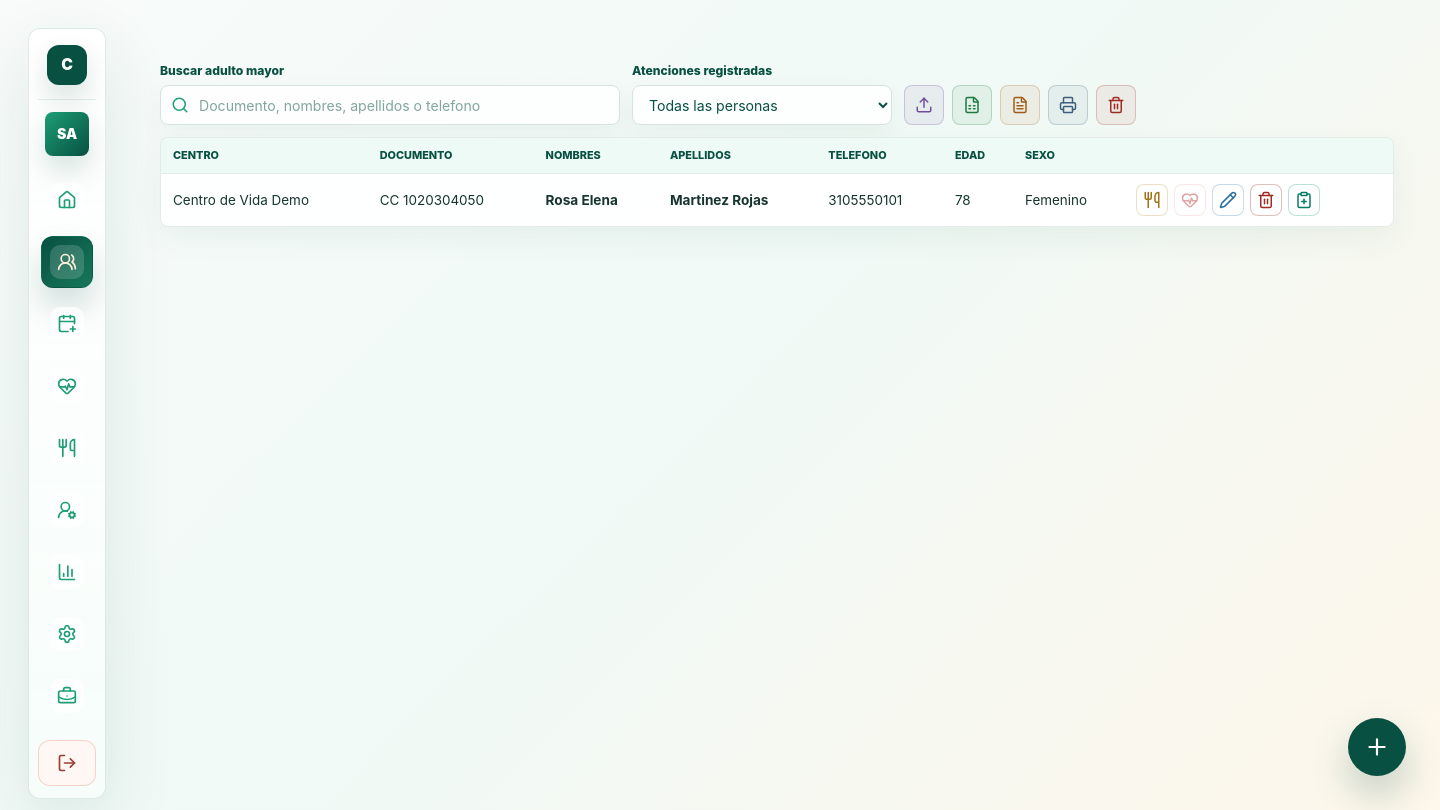
Scenario: App adultos mayores flow › allows SuperAdmin users to send an adulto mayor to trash and access the trash
Click the button named "Enviar a papelera Rosa Elena Martinez Rojas" at (1266, 200), box [1250, 184, 1282, 216]
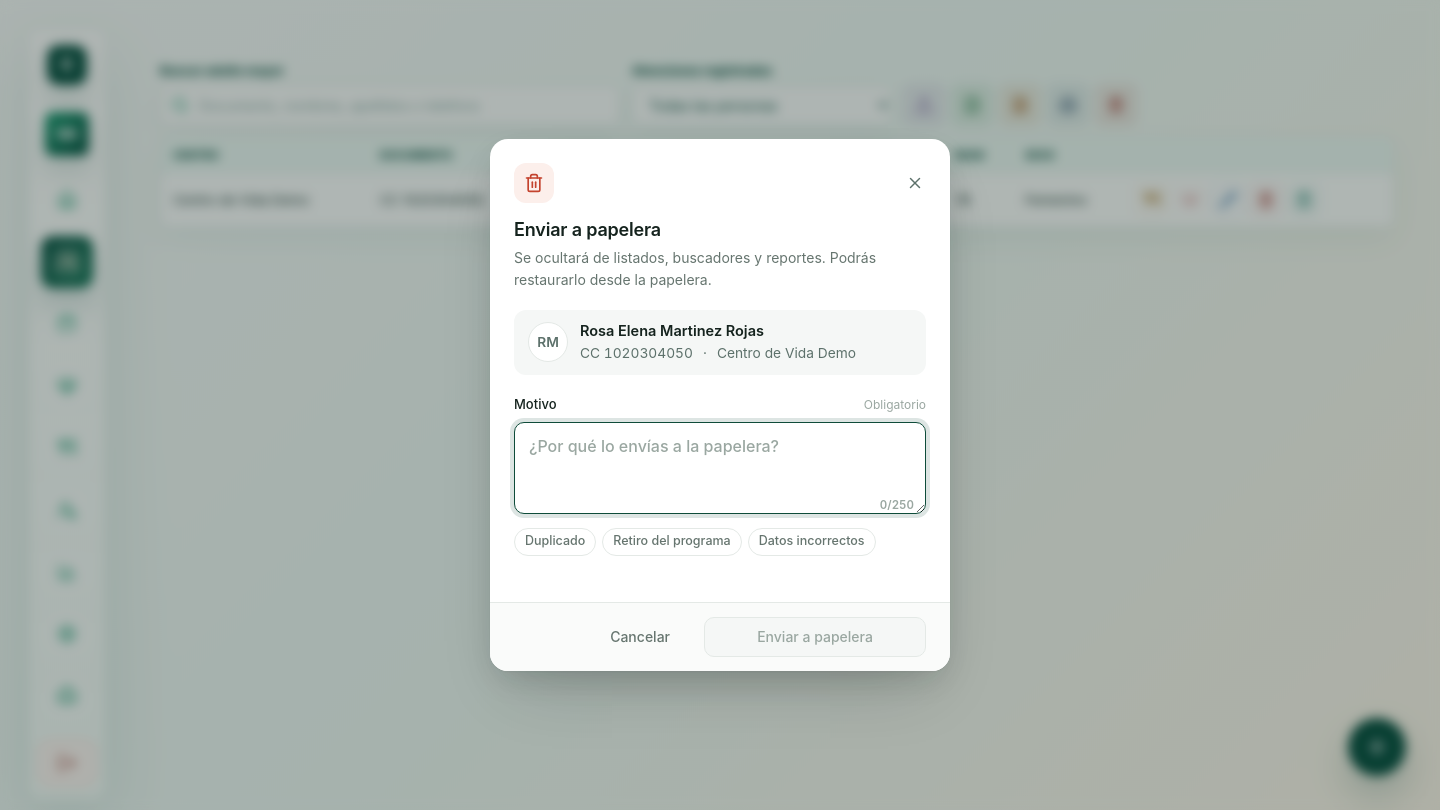
Type "Registro duplicado" into the text box labelled "Motivo" at (720, 468), box [514, 422, 926, 514]
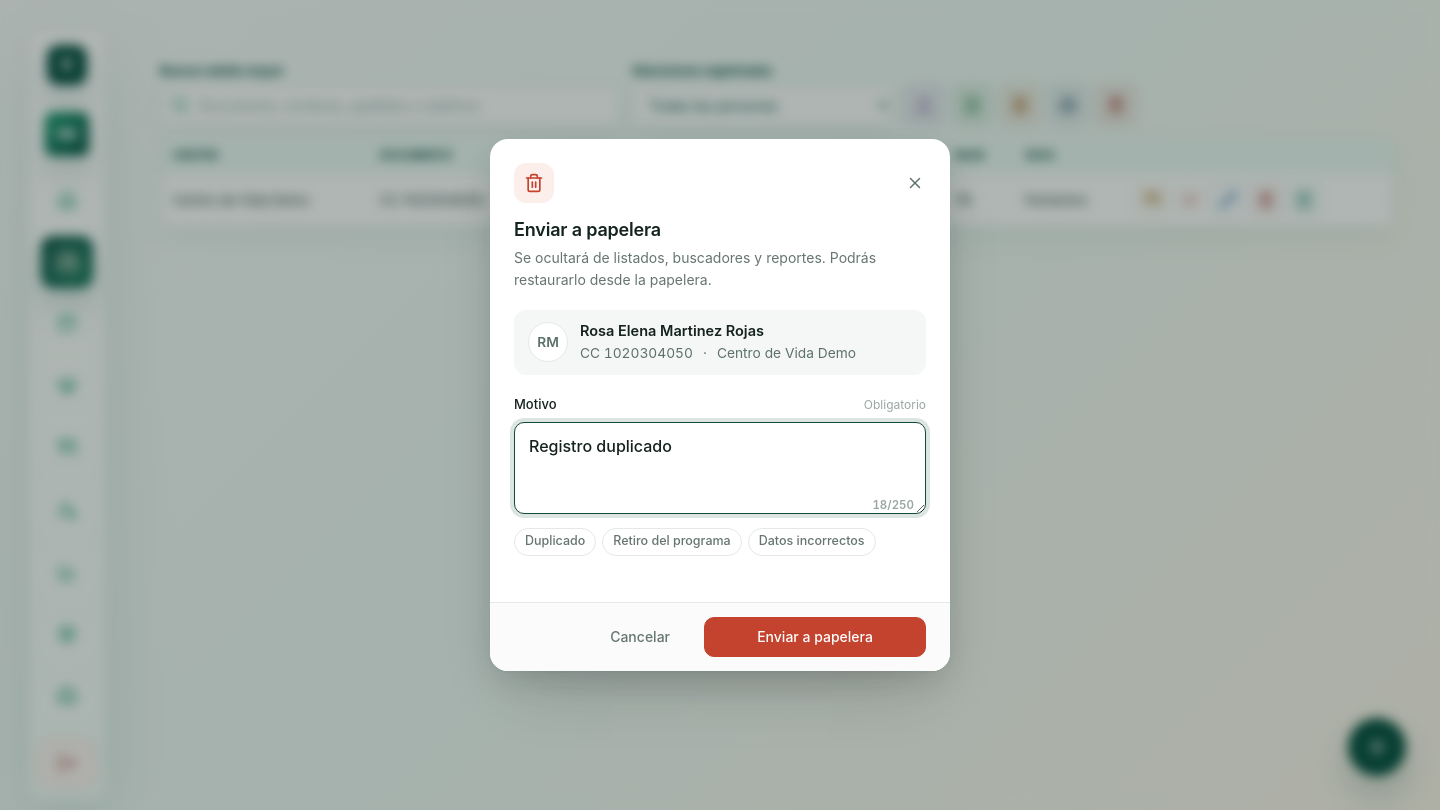
Click the button "Enviar a papelera" at (815, 637), box [704, 617, 926, 657]
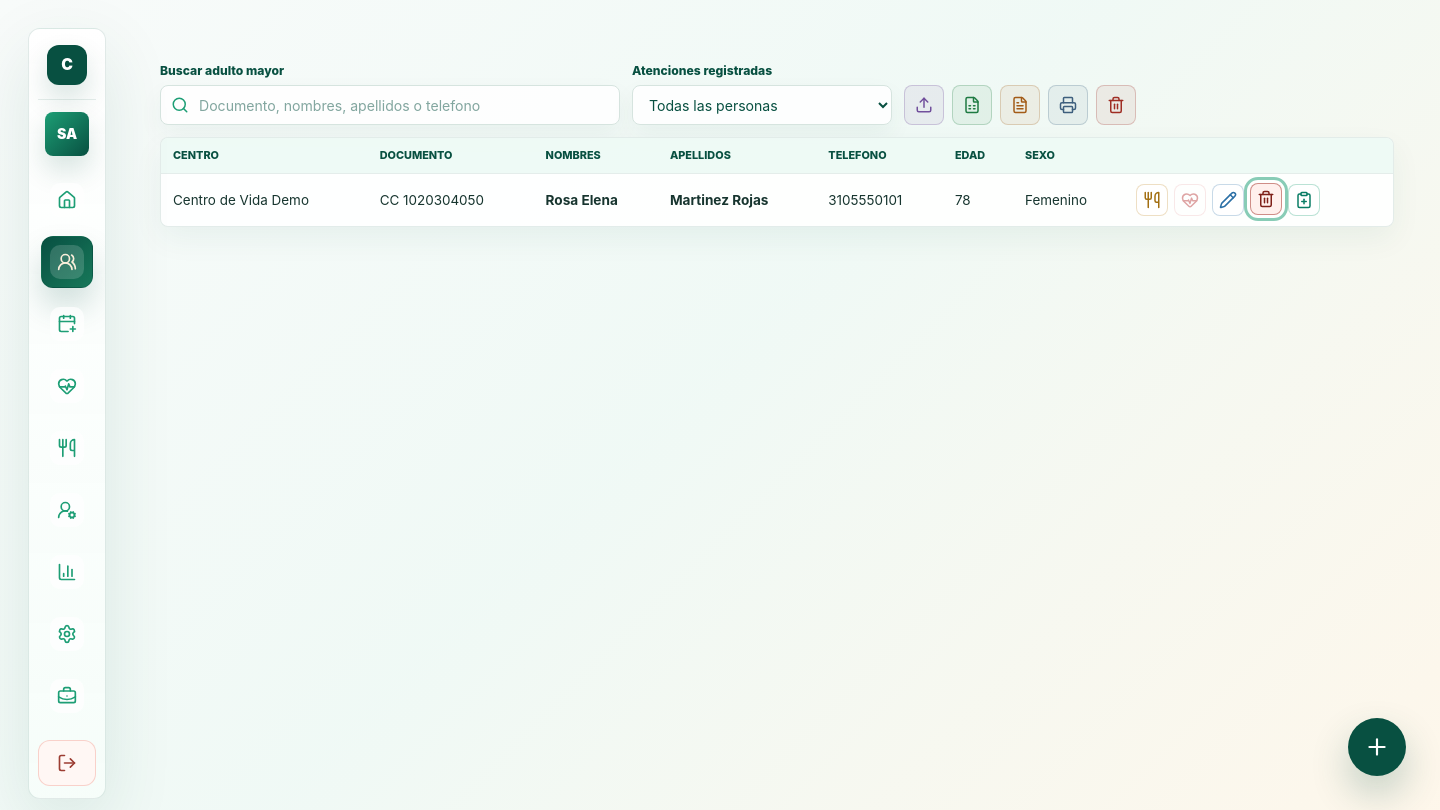
Click the button named "Papelera" at (1116, 105), box [1096, 85, 1136, 125]
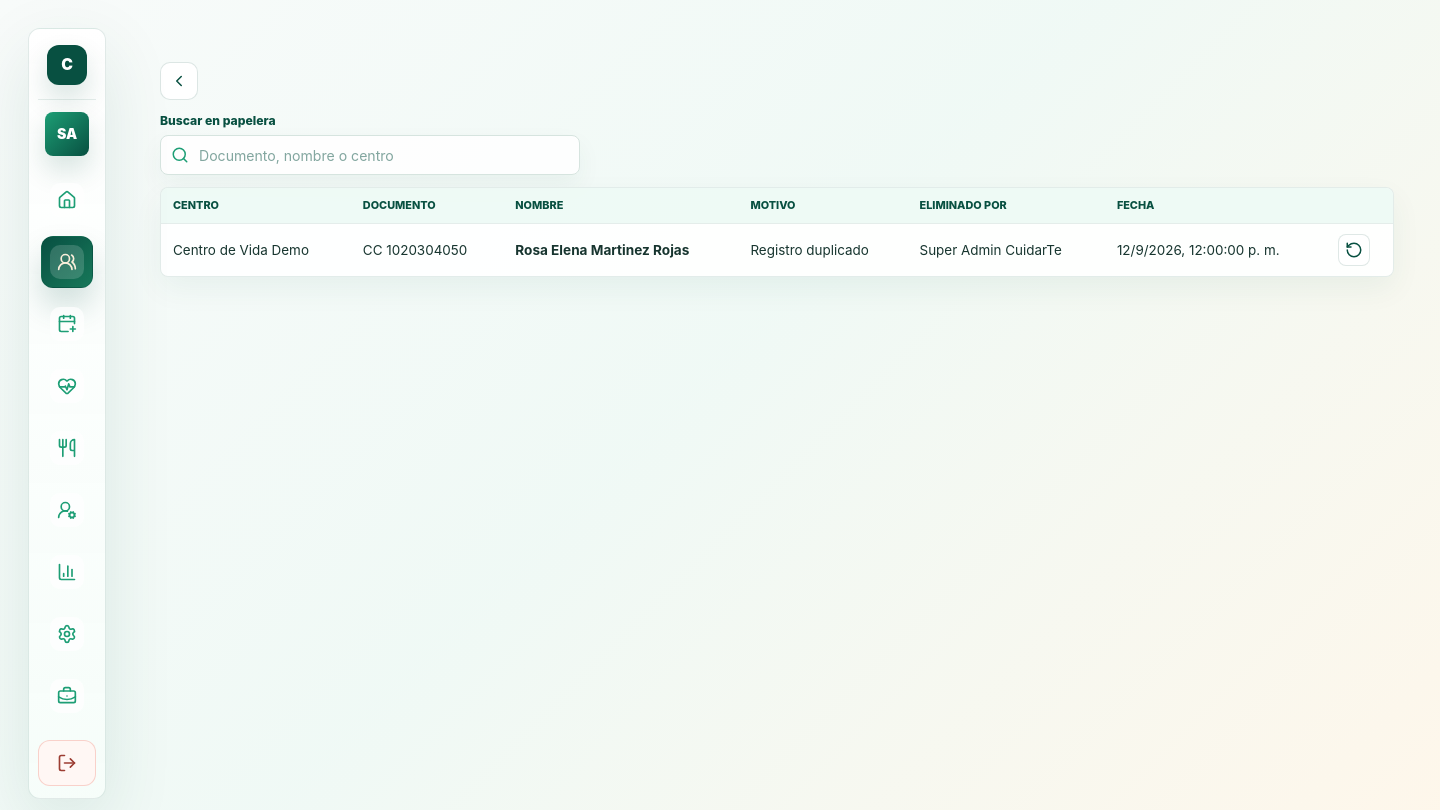
Expected: the element named "Papelera de adultos mayores" is shown, [160, 62, 1394, 351]
